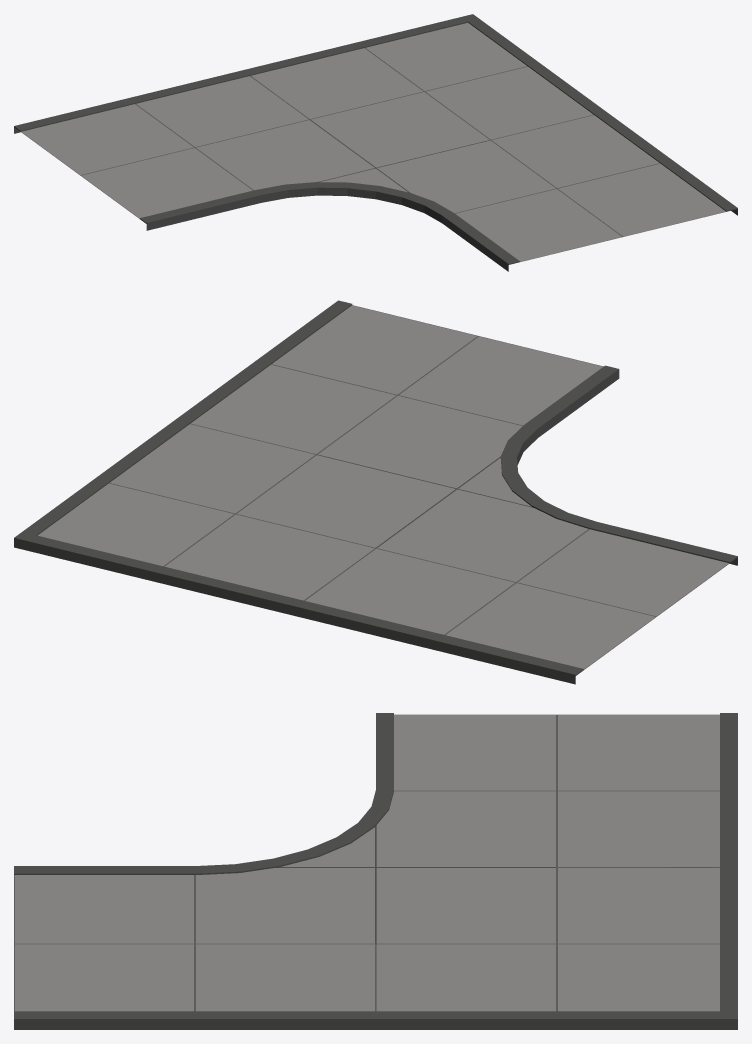
File: M_SideWalk700x700_01.fbx
3 views of the same model, one above another, from view 1: azimuth 30°, elevation 25°; view 2: azimuth 150°, elevation 25°; view 3: azimuth 270°, elevation 25° (orthographic). The views are drawn at different scales.
Visible parts, largest first — view 1: M_SideWalk700x700_01; view 2: M_SideWalk700x700_01; view 3: M_SideWalk700x700_01.
Boxes of the visible parts, <box> form: M_SideWalk700x700_01: <box>14,14,737,271</box>; M_SideWalk700x700_01: <box>14,300,737,684</box>; M_SideWalk700x700_01: <box>14,713,737,1029</box>.
Size of what is drawn, in the model's own units: 700 by 700 by 11.5.
